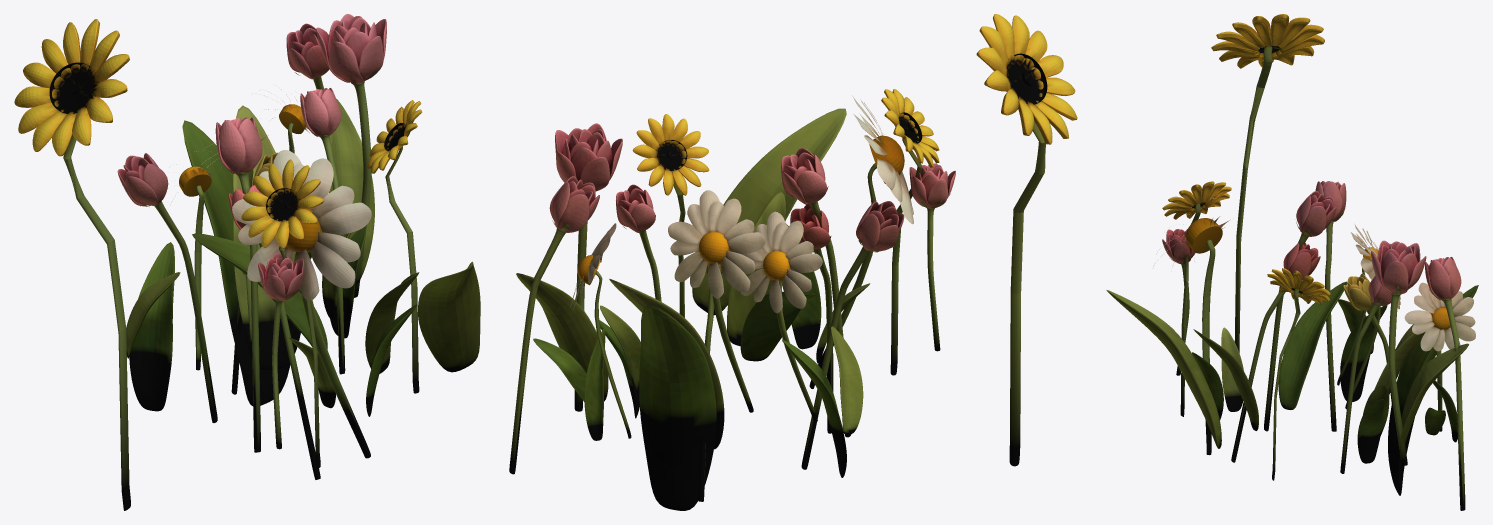
The model's file is plants_cottageB.glb.
The picture shows the model from 3 angles, left to right: view 1: azimuth 30°, elevation 25°; view 2: azimuth 150°, elevation 25°; view 3: azimuth 270°, elevation 25°; orthographic projection. The views are drawn at different scales.
Parts seen in each view (by area): view 1: V | 花草 · Cottage bed B; view 2: V | 花草 · Cottage bed B; view 3: V | 花草 · Cottage bed B.
Boxes of the visible parts, <box> form: V | 花草 · Cottage bed B: <box>14,14,480,510</box>; V | 花草 · Cottage bed B: <box>509,14,1077,510</box>; V | 花草 · Cottage bed B: <box>1106,14,1478,510</box>.
Bounding box in the file's own units: 1.33 × 1.43 × 1.25.
